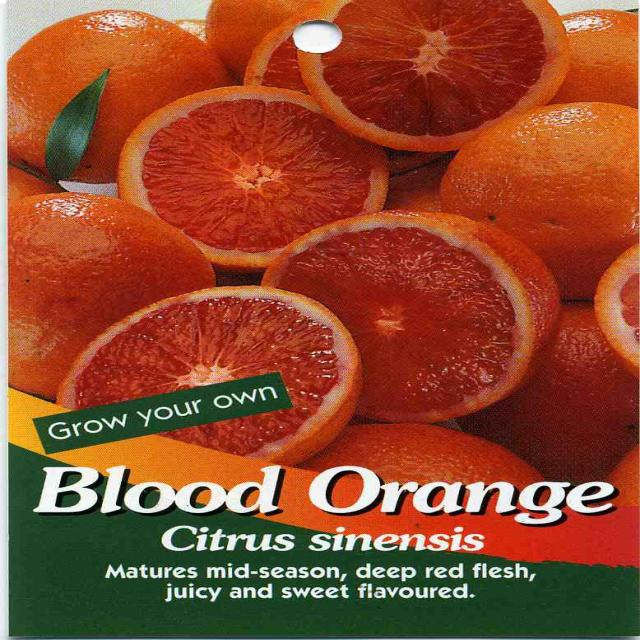Orange: (104, 78, 395, 273), (268, 199, 526, 416), (277, 0, 581, 173)
